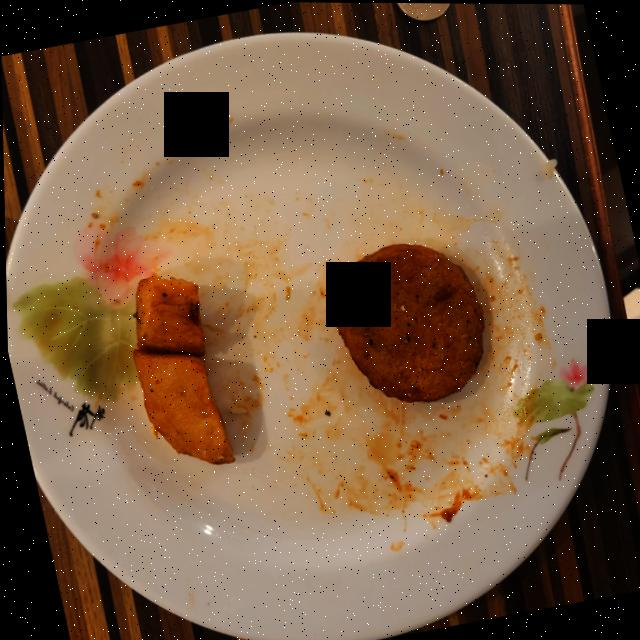coin: (397, 2, 451, 20)
fish cake: (335, 243, 484, 402)
fried potato: (131, 276, 233, 464)
